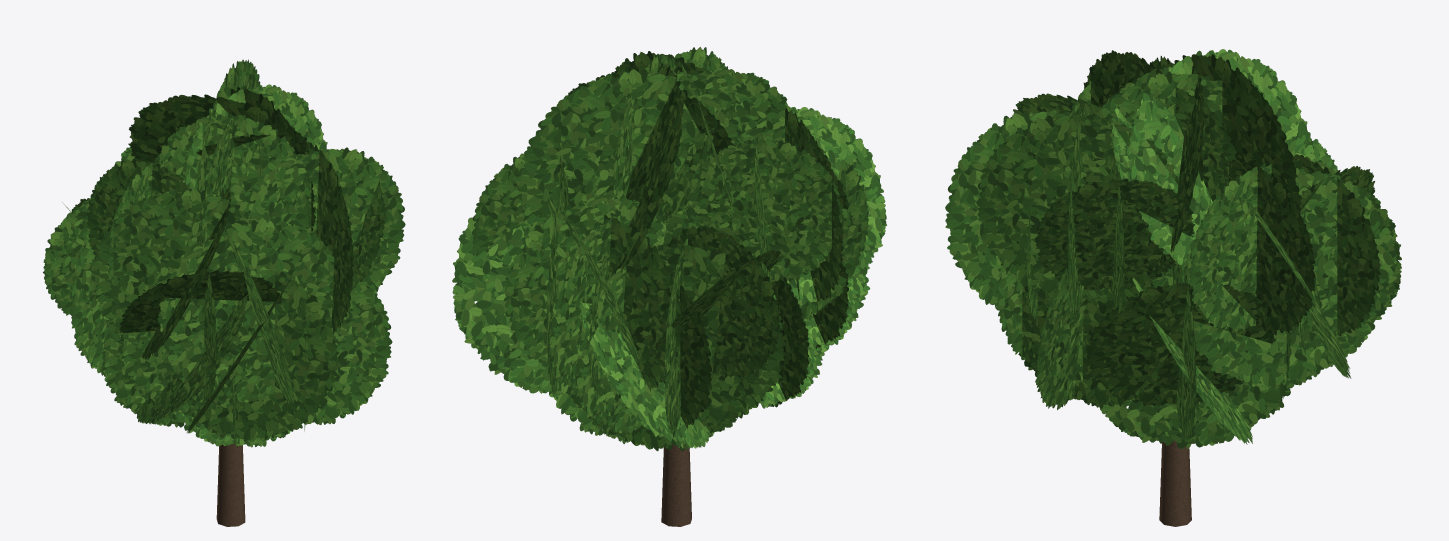
The model's file is oak_1.gltf.
3 renders of one model, left to right at view 1: azimuth 30°, elevation 25°; view 2: azimuth 150°, elevation 25°; view 3: azimuth 270°, elevation 25°, orthographic. The views are drawn at different scales.
Visible parts, largest first — view 1: oak_1; view 2: oak_1; view 3: oak_1.
Boxes of the visible parts, <box> form: oak_1: <box>43,59,405,526</box>; oak_1: <box>452,47,886,526</box>; oak_1: <box>945,49,1401,526</box>.
Bounding box in the file's own units: 1.98 × 2.54 × 2.25.
2 materials, 2 textured.
